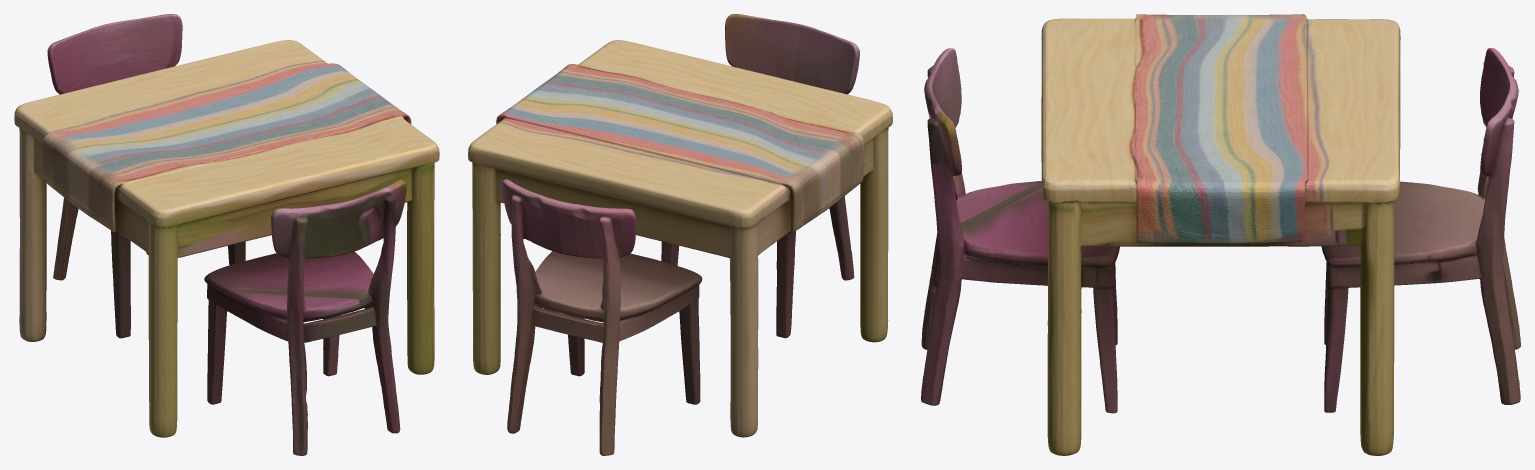
Rendered from dining_set.glb.
The picture shows the model from 3 angles, left to right: view 1: azimuth 30°, elevation 25°; view 2: azimuth 150°, elevation 25°; view 3: azimuth 270°, elevation 25°; orthographic projection. The views are drawn at different scales.
Parts seen in each view (by area): view 1: geometry_0; view 2: geometry_0; view 3: geometry_0.
Part boxes in pixels (box(x1,y1,x2,y2)): geometry_0: box(14, 14, 439, 455); geometry_0: box(468, 14, 892, 455); geometry_0: box(921, 14, 1520, 455).
Size of the model in its own units: 0.6931 by 0.5396 by 1.
Materials: 1 (1 with a texture image).
